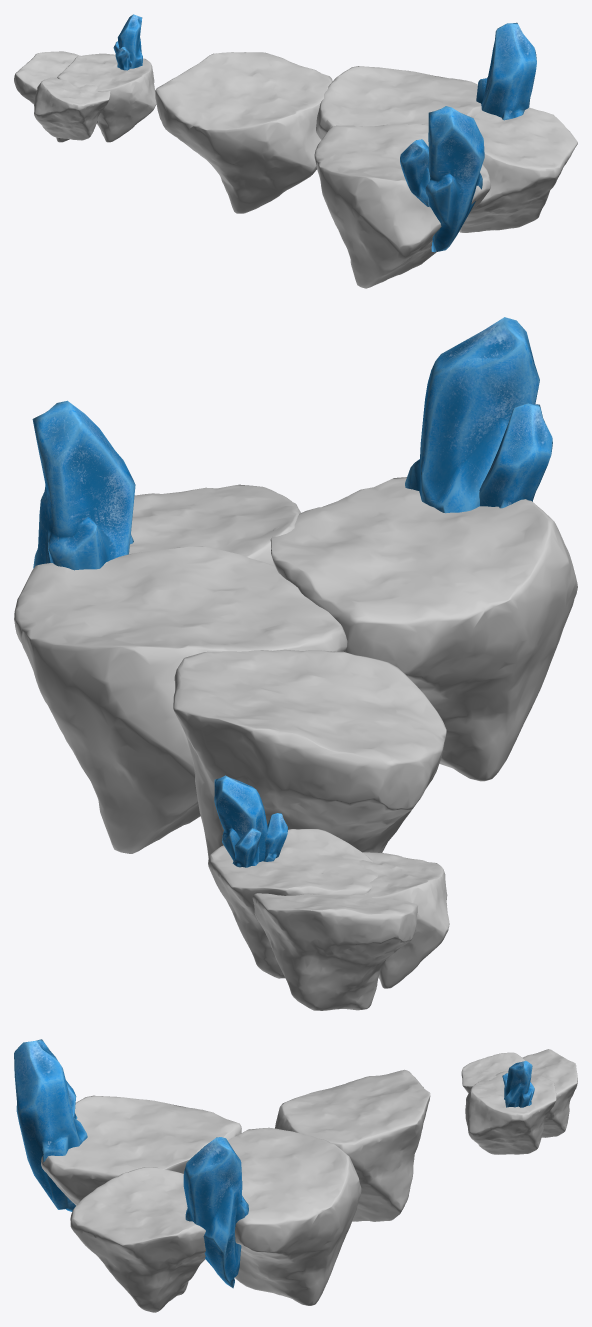
Rendered from Frozen_Combined.fbx.
3 views of the same model, one above another, from view 1: azimuth 30°, elevation 25°; view 2: azimuth 150°, elevation 25°; view 3: azimuth 270°, elevation 25° (orthographic). The views are drawn at different scales.
Visible parts, largest first — view 1: combined_frozen; view 2: combined_frozen; view 3: combined_frozen.
Part boxes in pixels (<box>): combined_frozen: <box>14,14,577,288</box>; combined_frozen: <box>14,317,577,1010</box>; combined_frozen: <box>14,1039,577,1312</box>.
Size of the model in its own units: 161 by 89.74 by 204.
